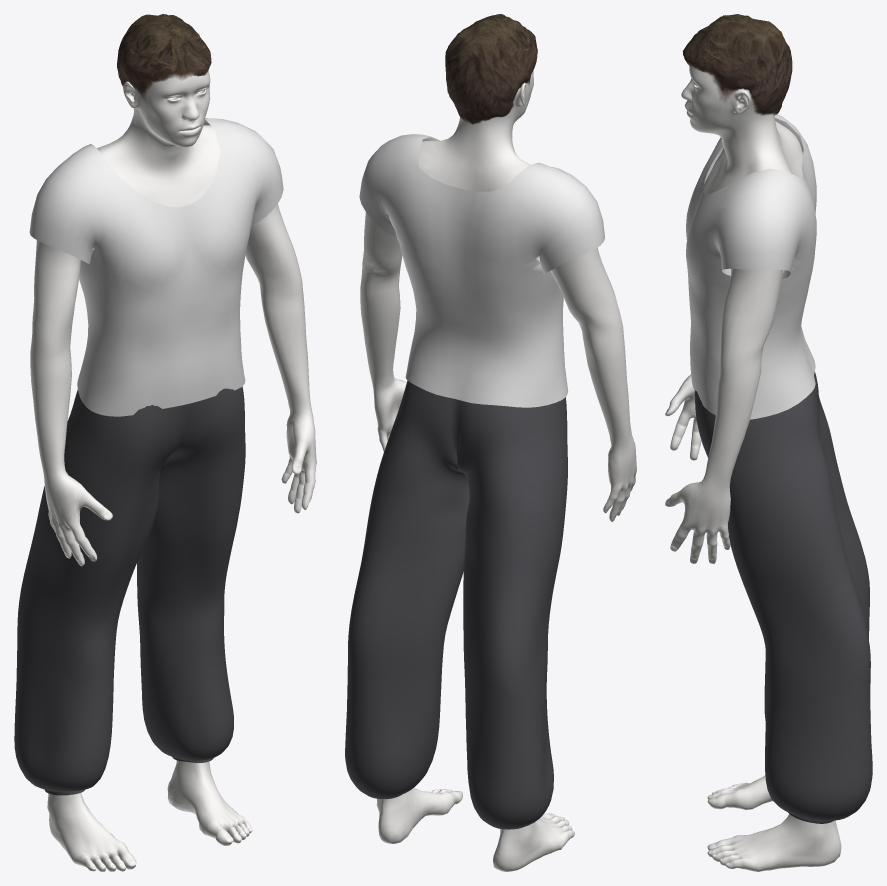
The model's file is mannequin-male-relaxed.glb.
3 renders of one model, left to right at view 1: azimuth 30°, elevation 25°; view 2: azimuth 150°, elevation 25°; view 3: azimuth 270°, elevation 25°, orthographic. The views are drawn at different scales.
Visible parts, largest first — view 1: Pants, Shirt, Body, Hair; view 2: Pants, Shirt, Body, Hair; view 3: Pants, Body, Shirt, Hair.
Part boxes in pixels (x1,y1,x2,y2): Pants: [14, 386, 245, 795]; Shirt: [29, 118, 283, 416]; Body: [30, 71, 316, 871]; Hair: [117, 14, 211, 99]; Pants: [345, 380, 567, 829]; Shirt: [359, 134, 604, 407]; Body: [360, 70, 636, 871]; Hair: [445, 14, 537, 124]; Pants: [694, 371, 872, 823]; Body: [665, 64, 841, 871]; Shirt: [686, 114, 816, 419]; Hair: [682, 14, 792, 115].
Bounding box in the file's own units: 0.6391 × 1.89 × 0.4372.
4 materials, 1 textured.
